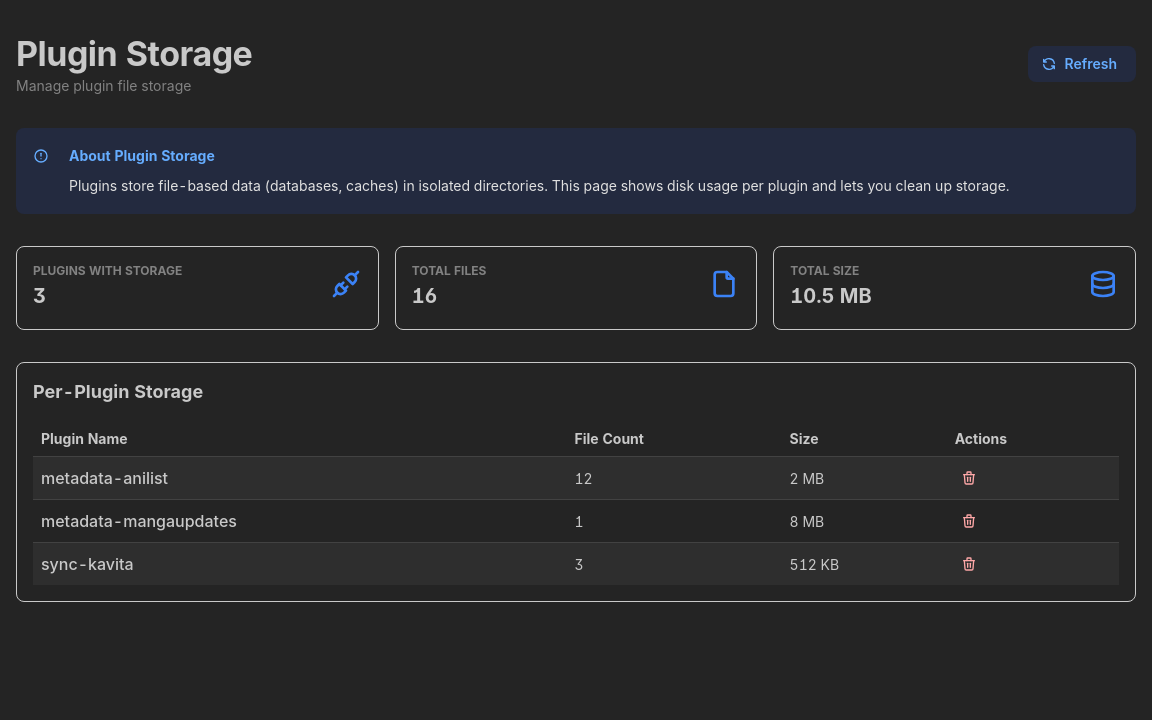
it: PluginStorageSettings › should open confirmation modal when cleanup button is clicked
Expected: the text "metadata-anilist" is shown, [41, 468, 168, 488]
Step 1. Click the button named "Delete storage for metadata-anilist" → (969, 478), box [955, 464, 983, 492]
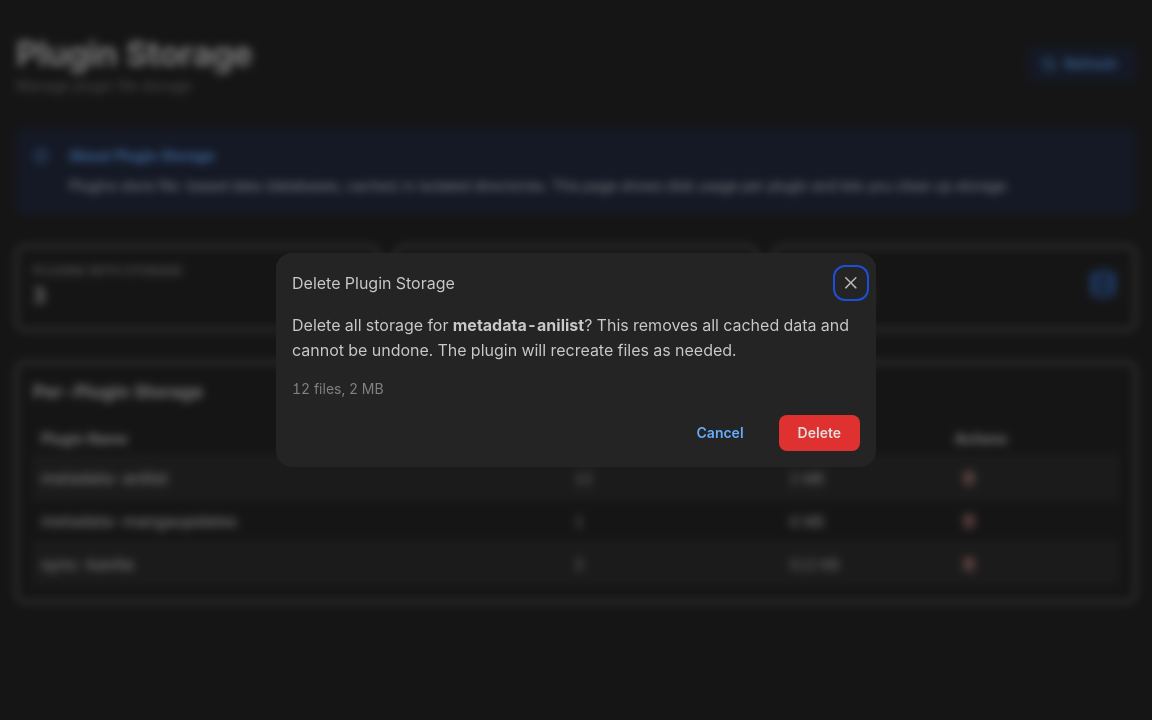
Expected: the heading "Delete Plugin Storage" is shown, [292, 275, 455, 291]
Expected: the text "Delete all storage for" is shown, [292, 315, 448, 335]
